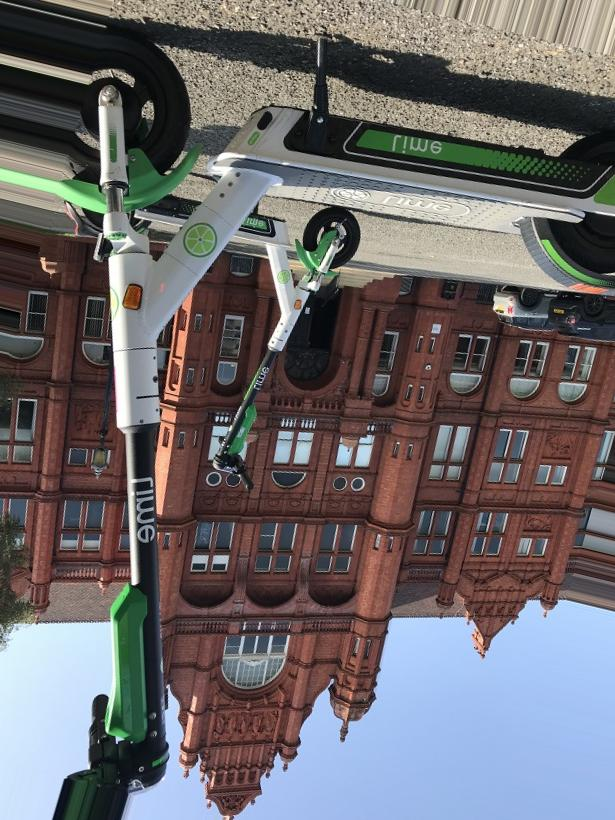scooter: (52, 28, 615, 820)
